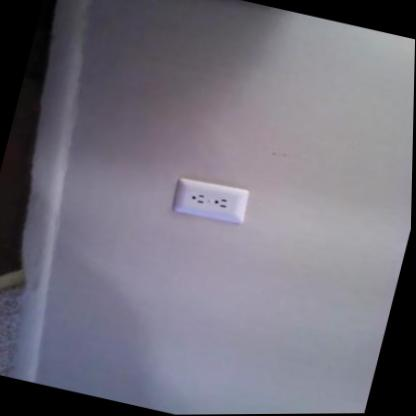OUTLET: (168, 173, 250, 228)
